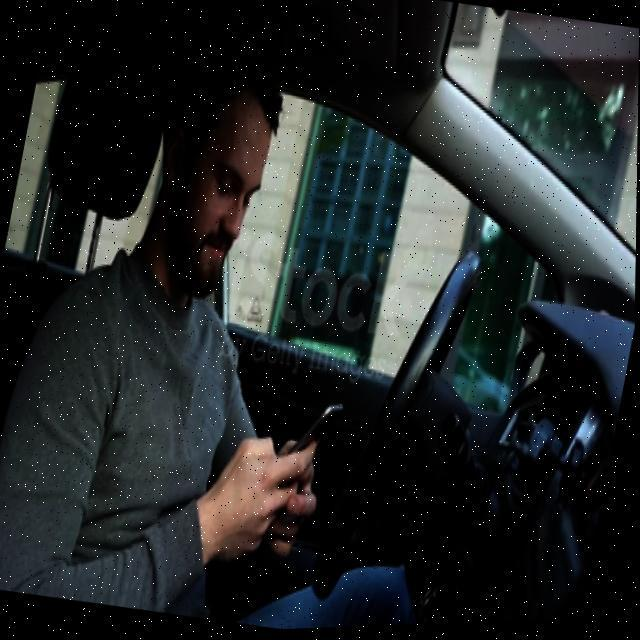PhoneCall: (282, 396, 344, 490)
